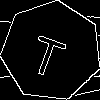T: (26, 26, 71, 80)
